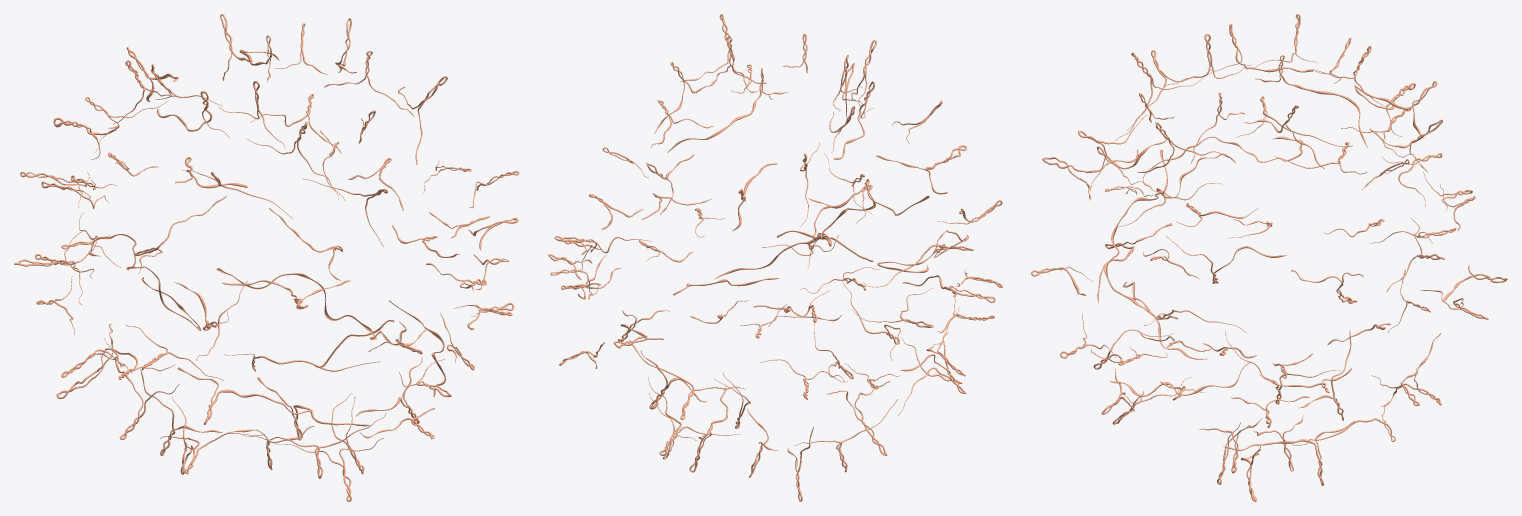
File: Microfilaments.fbx
3 views of the same model, side by side, from view 1: azimuth 30°, elevation 25°; view 2: azimuth 150°, elevation 25°; view 3: azimuth 270°, elevation 25° (orthographic). The views are drawn at different scales.
Parts seen in each view (by area): view 1: Microfilament_01, Microfilament_02; view 2: Microfilament_01, Microfilament_02; view 3: Microfilament_01, Microfilament_02.
Part boxes in pixels (x1=…): Microfilament_01: x1=14, y1=14, x2=519, y2=501; Microfilament_02: x1=88, y1=234, x2=445, y2=396; Microfilament_01: x1=548, y1=14, x2=1002, y2=501; Microfilament_02: x1=673, y1=185, x2=968, y2=295; Microfilament_01: x1=1031, y1=14, x2=1507, y2=501; Microfilament_02: x1=1104, y1=136, x2=1302, y2=396.
Size of the model in its own units: 4259 by 4049 by 4235.
